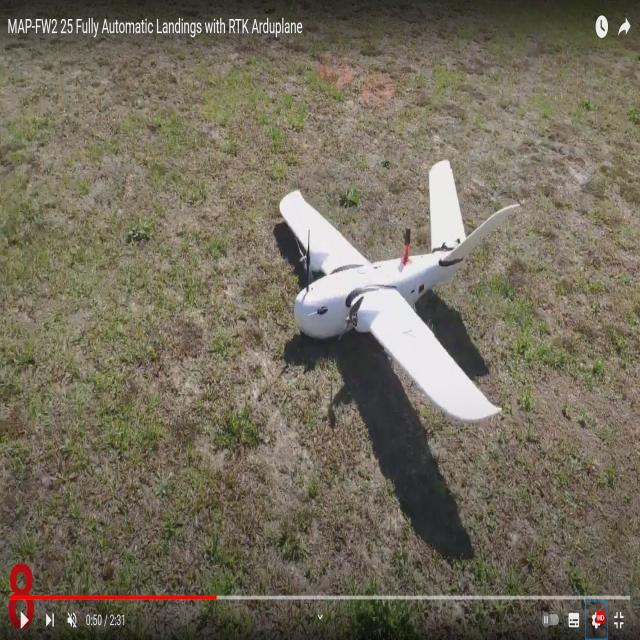iha: (271, 181, 500, 415)
